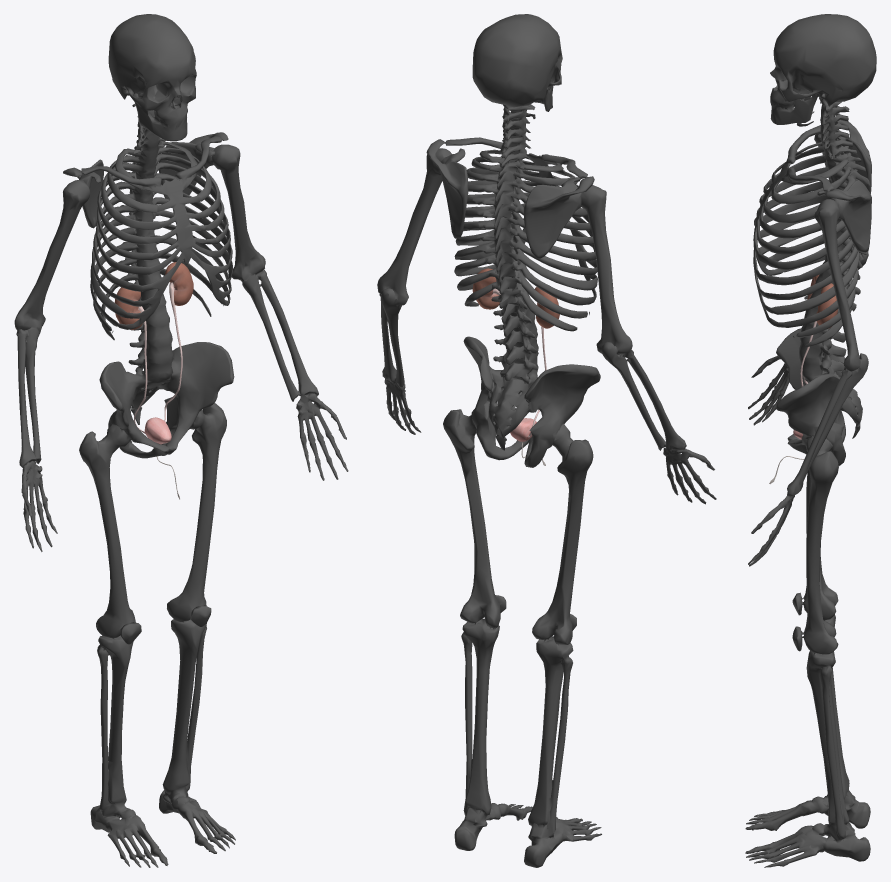
Rendered from hệ bài tiết.glb.
3 views of the same model, side by side, from view 1: azimuth 30°, elevation 25°; view 2: azimuth 150°, elevation 25°; view 3: azimuth 270°, elevation 25° (orthographic).
Visible parts, largest first — view 1: SkeletonV2_3, urinarySystem_stingray:urinarySystem_1; view 2: SkeletonV2_3, urinarySystem_stingray:urinarySystem_1; view 3: SkeletonV2_3, urinarySystem_stingray:urinarySystem_1.
Boxes of the visible parts, x1,y1,x2,y2 form: SkeletonV2_3: (14, 14, 348, 867); urinarySystem_stingray:urinarySystem_1: (114, 262, 193, 499); SkeletonV2_3: (377, 14, 716, 867); urinarySystem_stingray:urinarySystem_1: (472, 268, 559, 465); SkeletonV2_3: (745, 14, 876, 867); urinarySystem_stingray:urinarySystem_1: (769, 274, 838, 483).
Size of the model in its own units: 0.6925 by 1.69 by 0.2441.
Materials: 2 (1 with a texture image).
